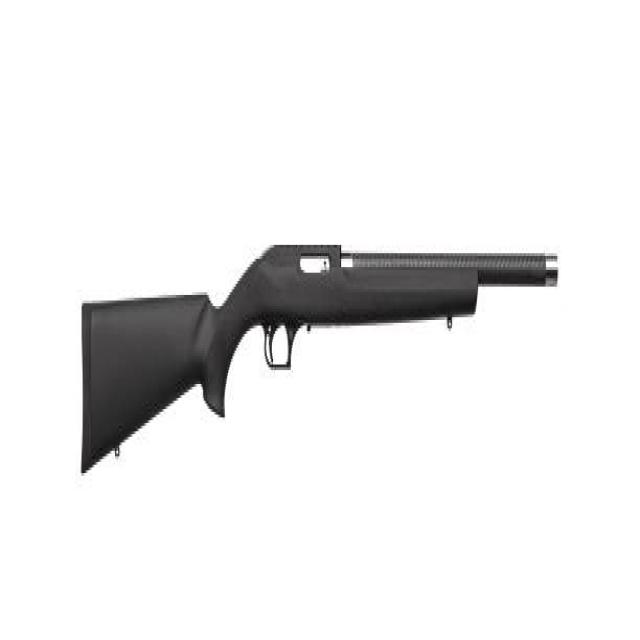rifle: (76, 233, 565, 487)
